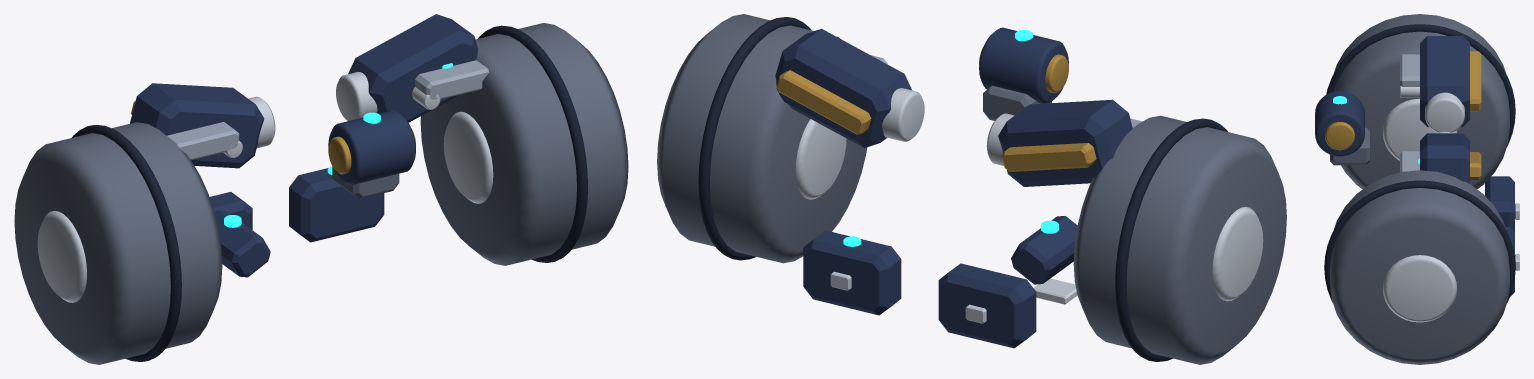
The model's file is tower_skywatch_rate_s7.glb.
The picture shows the model from 3 angles, left to right: view 1: azimuth 30°, elevation 25°; view 2: azimuth 150°, elevation 25°; view 3: azimuth 270°, elevation 25°; orthographic projection. The views are drawn at different scales.
Visible parts, largest first — view 1: skywatch_big_drum_r, skywatch_big_drum_l, skywatch_feed_cover_l, skywatch_feed_cover_r, skywatch_belt_box-0.24, skywatch_feed_motor, skywatch_big_drum_cap_r, skywatch_big_drum_cap_l, skywatch_big_drum_rib_r, skywatch_big_drum_rib_l, skywatch_eject_chute, skywatch_belt_guide_l (+6 smaller); view 2: skywatch_big_drum_r, skywatch_big_drum_l, skywatch_feed_cover_l, skywatch_feed_cover_r, skywatch_belt_box0.24, skywatch_belt_box-0.24, skywatch_feed_motor, skywatch_big_drum_cap_r, skywatch_big_drum_rib_l, skywatch_big_drum_rib_r, skywatch_big_drum_cap_l, skywatch_eject_chute (+7 smaller); view 3: skywatch_big_drum_l, skywatch_big_drum_r, skywatch_big_drum_cap_l, skywatch_feed_cover_r, skywatch_big_drum_rib_l, skywatch_feed_motor, skywatch_feed_cover_l, skywatch_big_drum_rib_r, skywatch_big_drum_cap_r, skywatch_feed_sprocket_r, skywatch_belt_box0.24, skywatch_feed_belt_r (+6 smaller).
Boxes of the visible parts, left/top/right/bottom form: skywatch_big_drum_r: left=14, top=122, right=222, bottom=364; skywatch_big_drum_l: left=420, top=23, right=628, bottom=265; skywatch_feed_cover_l: left=348, top=14, right=478, bottom=122; skywatch_feed_cover_r: left=130, top=83, right=264, bottom=168; skywatch_belt_box-0.24: left=289, top=168, right=384, bottom=242; skywatch_feed_motor: left=328, top=110, right=415, bottom=184; skywatch_big_drum_cap_r: left=37, top=210, right=86, bottom=302; skywatch_big_drum_cap_l: left=443, top=111, right=493, bottom=203; skywatch_big_drum_rib_r: left=72, top=125, right=181, bottom=361; skywatch_big_drum_rib_l: left=478, top=25, right=587, bottom=262; skywatch_eject_chute: left=214, top=210, right=270, bottom=277; skywatch_belt_guide_l: left=415, top=60, right=488, bottom=99; skywatch_big_drum_r: left=1073, top=115, right=1286, bottom=364; skywatch_big_drum_l: left=657, top=14, right=867, bottom=263; skywatch_feed_cover_l: left=775, top=28, right=911, bottom=147; skywatch_feed_cover_r: left=998, top=99, right=1132, bottom=186; skywatch_belt_box0.24: left=938, top=263, right=1036, bottom=348; skywatch_belt_box-0.24: left=803, top=230, right=901, bottom=315; skywatch_feed_motor: left=979, top=27, right=1068, bottom=103; skywatch_big_drum_cap_r: left=1212, top=206, right=1263, bottom=301; skywatch_big_drum_rib_l: left=698, top=17, right=811, bottom=260; skywatch_big_drum_rib_r: left=1115, top=118, right=1227, bottom=361; skywatch_big_drum_cap_l: left=795, top=119, right=846, bottom=199; skywatch_eject_chute: left=1011, top=216, right=1077, bottom=284; skywatch_big_drum_l: left=1330, top=170, right=1509, bottom=364; skywatch_big_drum_r: left=1333, top=14, right=1509, bottom=189; skywatch_big_drum_cap_l: left=1382, top=255, right=1457, bottom=322; skywatch_feed_cover_r: left=1420, top=36, right=1469, bottom=127; skywatch_big_drum_rib_l: left=1324, top=180, right=1515, bottom=302; skywatch_feed_motor: left=1315, top=91, right=1364, bottom=156; skywatch_feed_cover_l: left=1420, top=133, right=1469, bottom=183; skywatch_big_drum_rib_r: left=1326, top=24, right=1515, bottom=146; skywatch_big_drum_cap_r: left=1382, top=98, right=1457, bottom=160; skywatch_feed_sprocket_r: left=1425, top=92, right=1464, bottom=132; skywatch_belt_box0.24: left=1485, top=176, right=1514, bottom=232; skywatch_feed_belt_r: left=1470, top=51, right=1481, bottom=111.
Bounding box in the file's own units: 1.92 × 0.8198 × 0.82.
